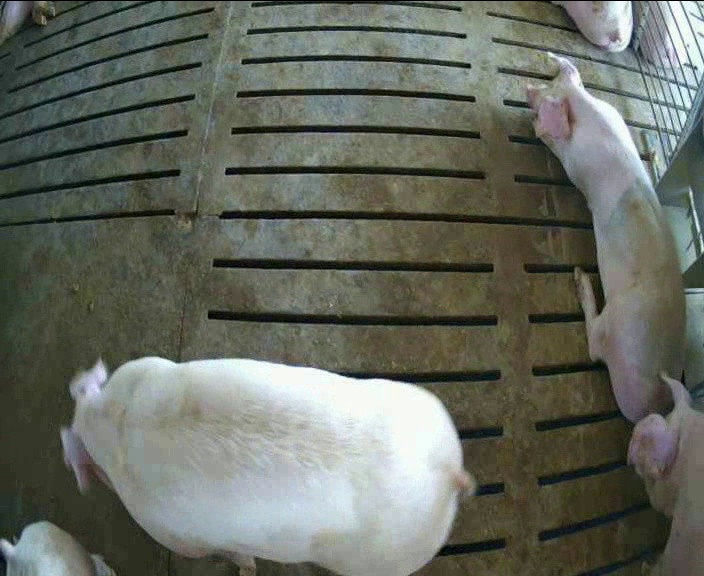pig: (62, 357, 474, 573), (528, 54, 684, 422)
